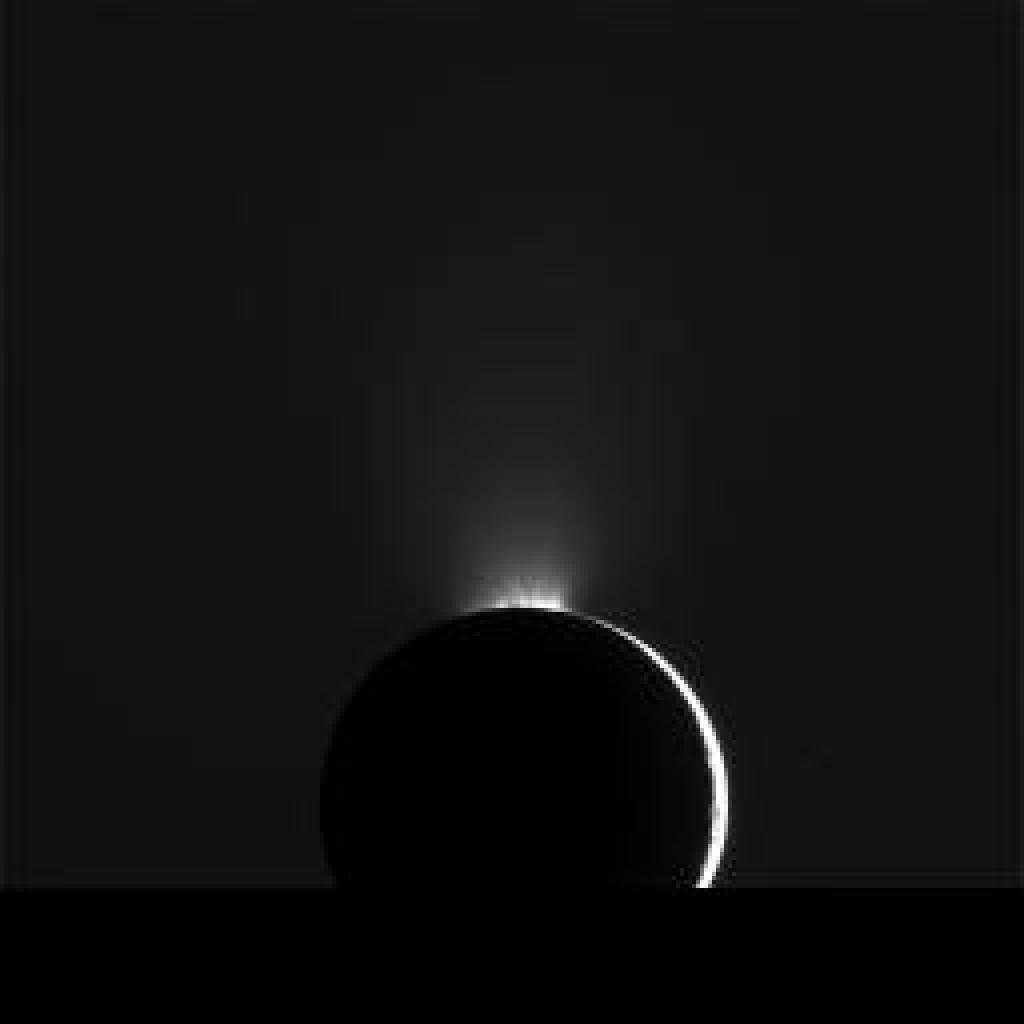plumes: (452, 538, 571, 622)
